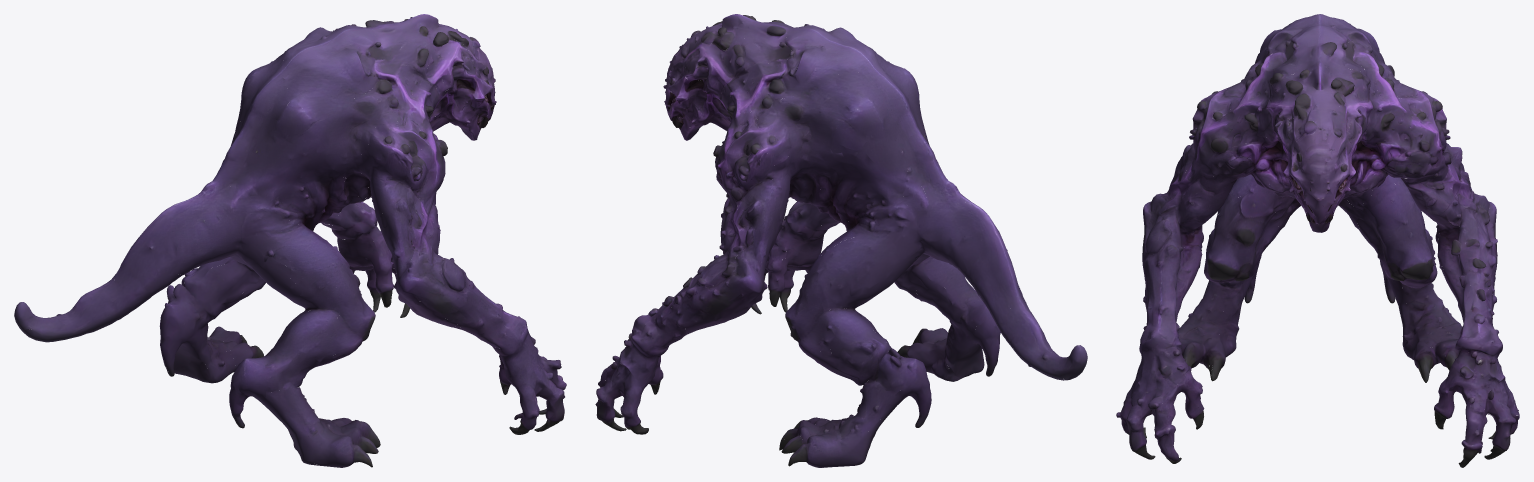
File: Optimized_Source.glb
The picture shows the model from 3 angles, left to right: view 1: azimuth 30°, elevation 25°; view 2: azimuth 150°, elevation 25°; view 3: azimuth 270°, elevation 25°; orthographic projection. The views are drawn at different scales.
Parts seen in each view (by area): view 1: tripo_node_351d1034-25ec-4300-a2e0-d03a0e68175a; view 2: tripo_node_351d1034-25ec-4300-a2e0-d03a0e68175a; view 3: tripo_node_351d1034-25ec-4300-a2e0-d03a0e68175a.
Boxes of the visible parts, x1=… form: tripo_node_351d1034-25ec-4300-a2e0-d03a0e68175a: x1=14, y1=14, x2=566, y2=467; tripo_node_351d1034-25ec-4300-a2e0-d03a0e68175a: x1=595, y1=14, x2=1087, y2=467; tripo_node_351d1034-25ec-4300-a2e0-d03a0e68175a: x1=1116, y1=14, x2=1519, y2=467.
Size of the model in its own units: 1 by 0.7825 by 0.7566.
Materials: 1 (1 with a texture image).
